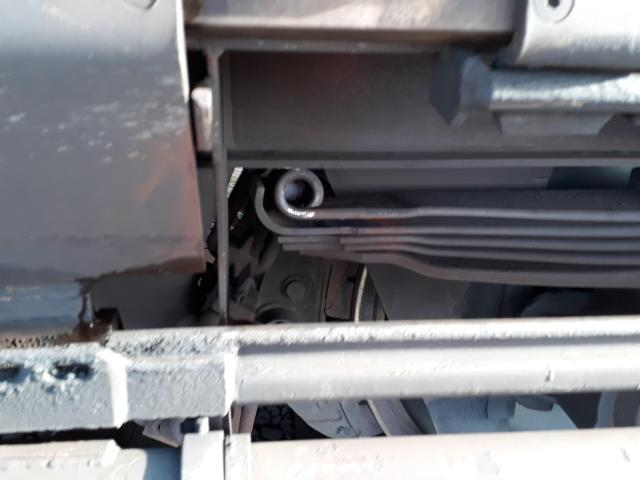blattfederww: (235, 166, 627, 288)
